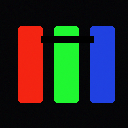3 line_h: (41, 36, 93, 42)
